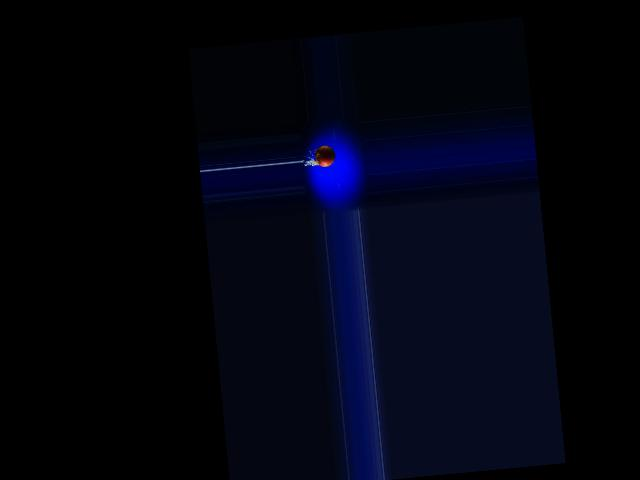tomato: (314, 144, 335, 167)
